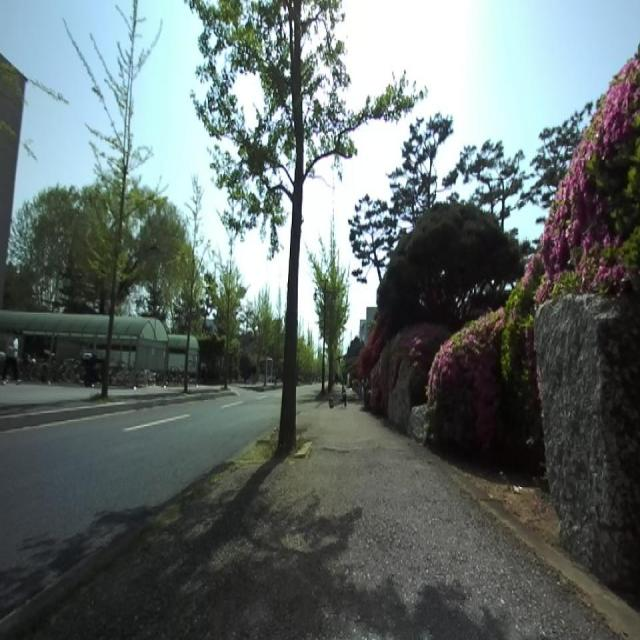sidewalk: (35, 403, 614, 639), (0, 384, 94, 415), (108, 388, 183, 400), (188, 386, 224, 394), (228, 384, 263, 389)
